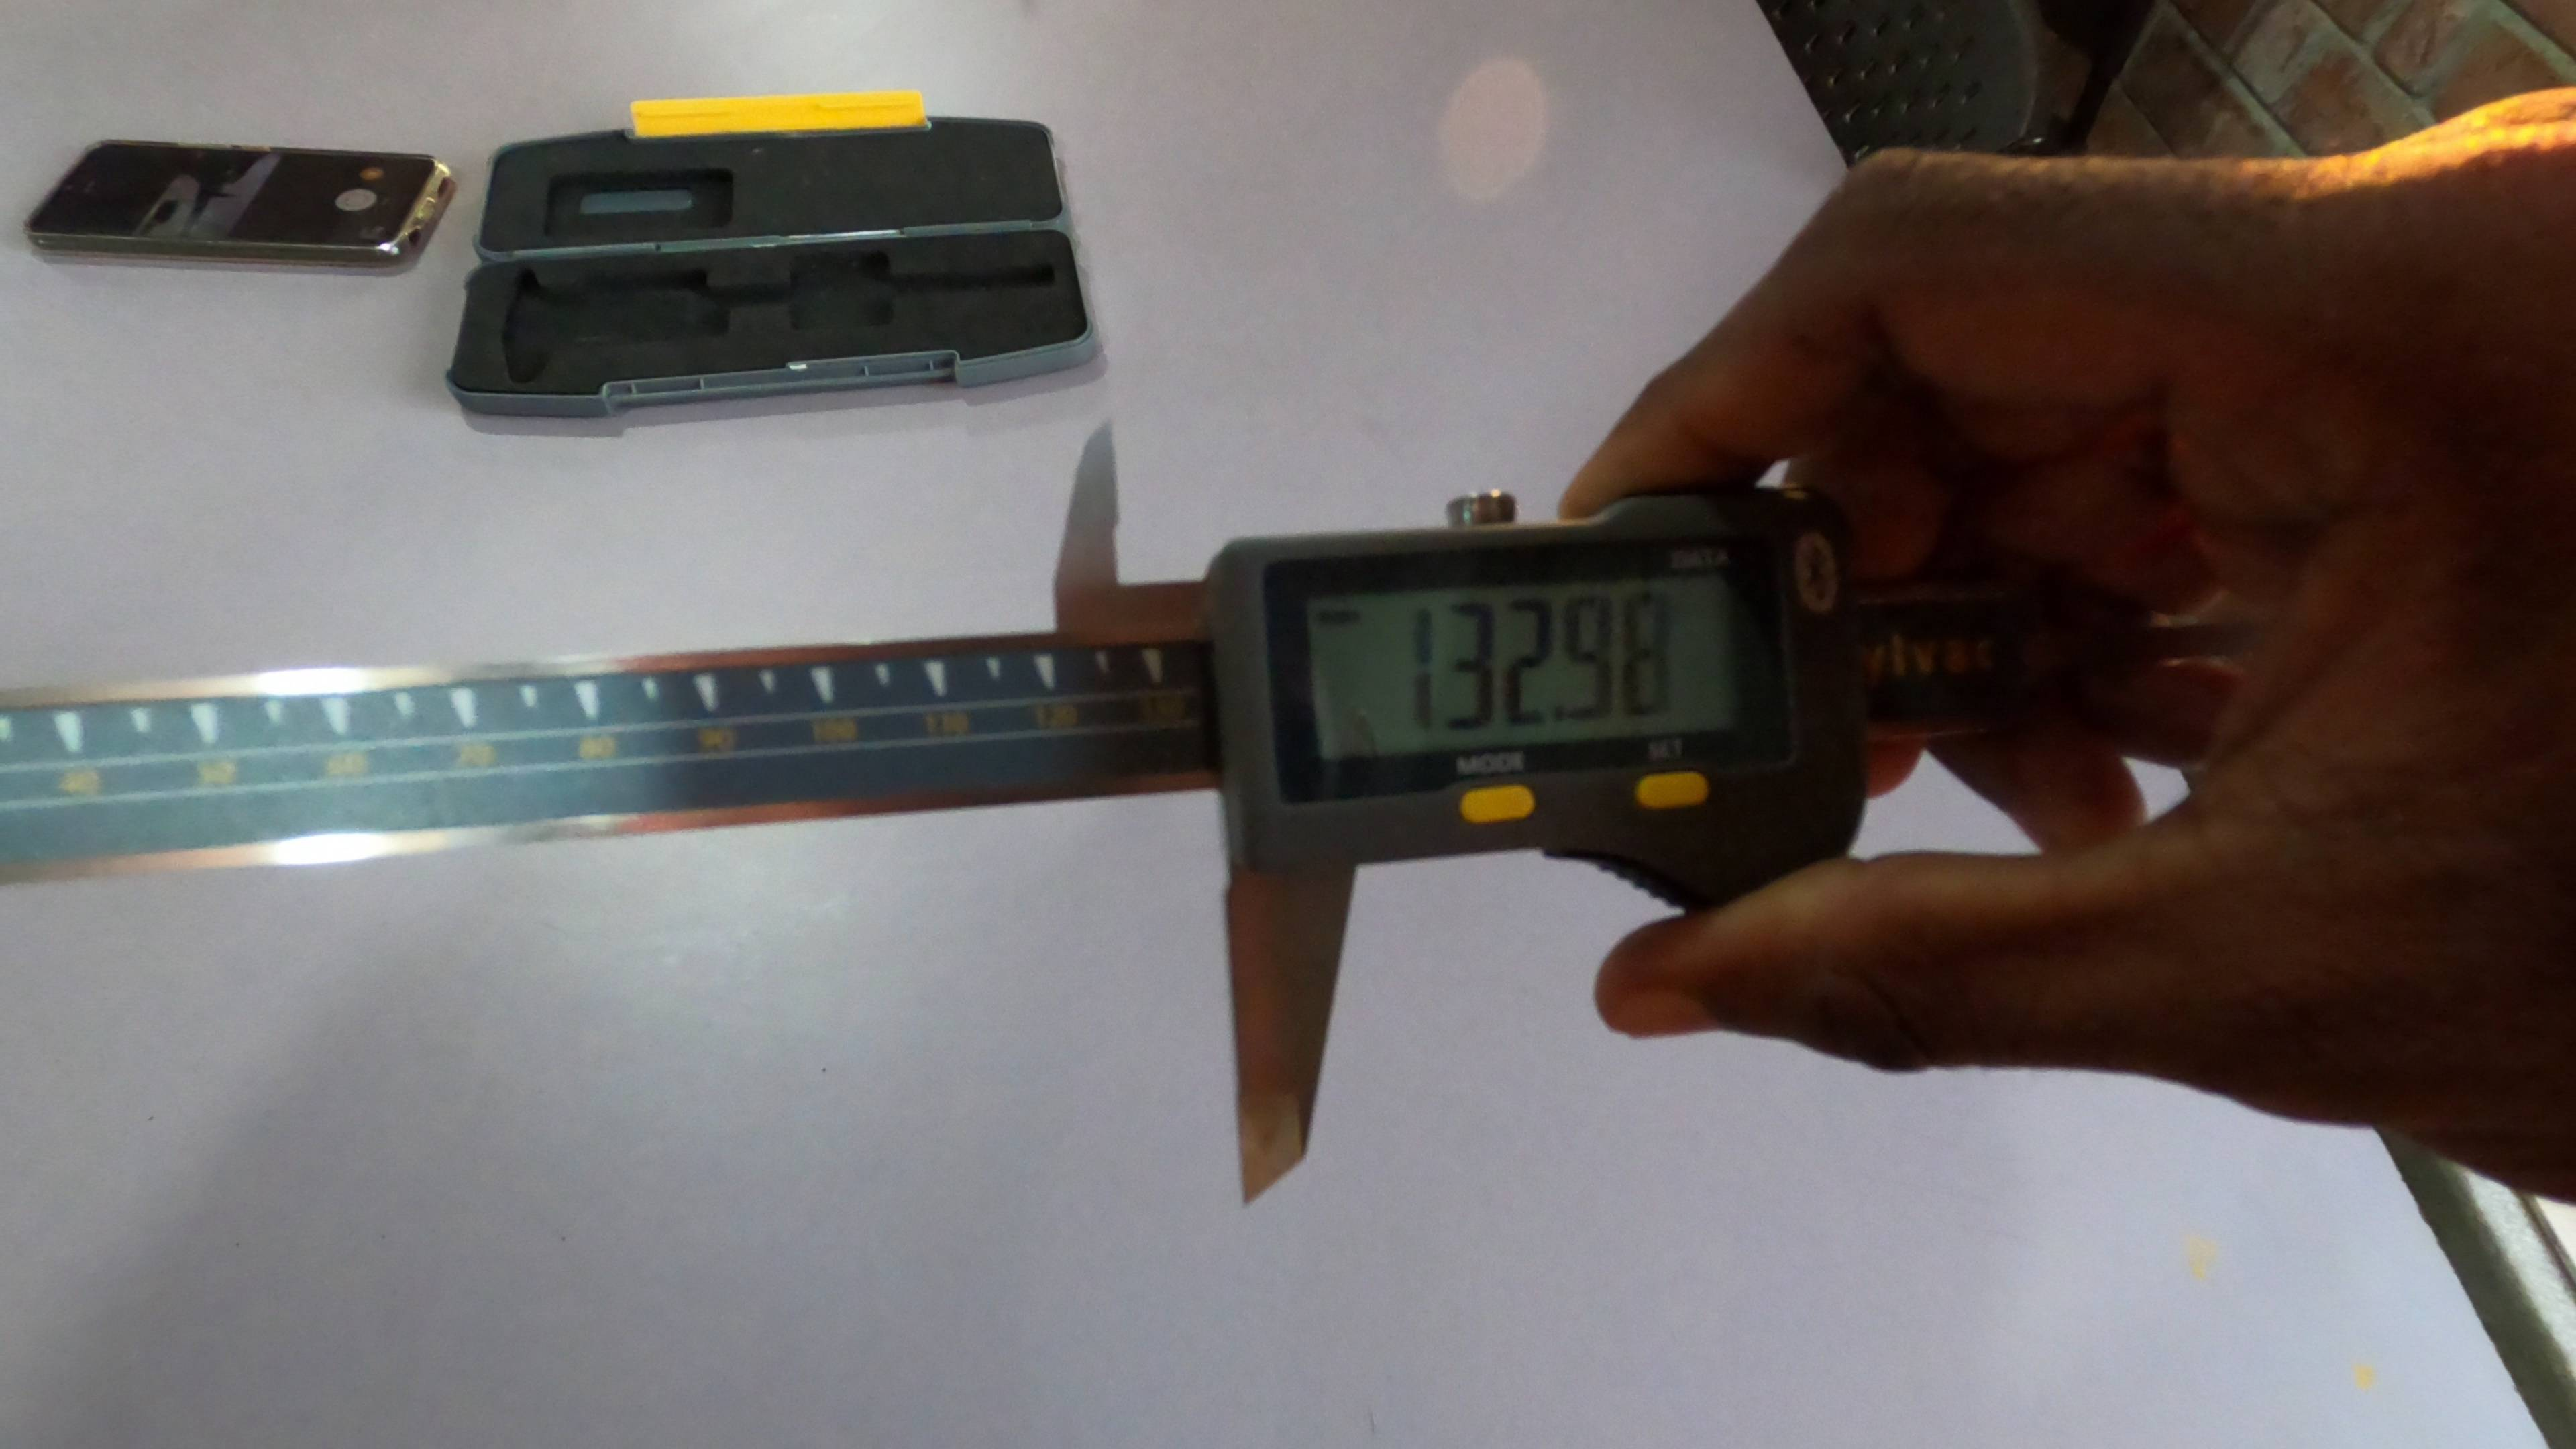vernier_caliper: (14, 403, 1859, 1221)
